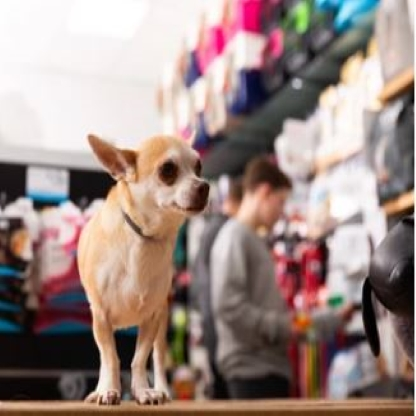chihuahua: (77, 132, 214, 411)
